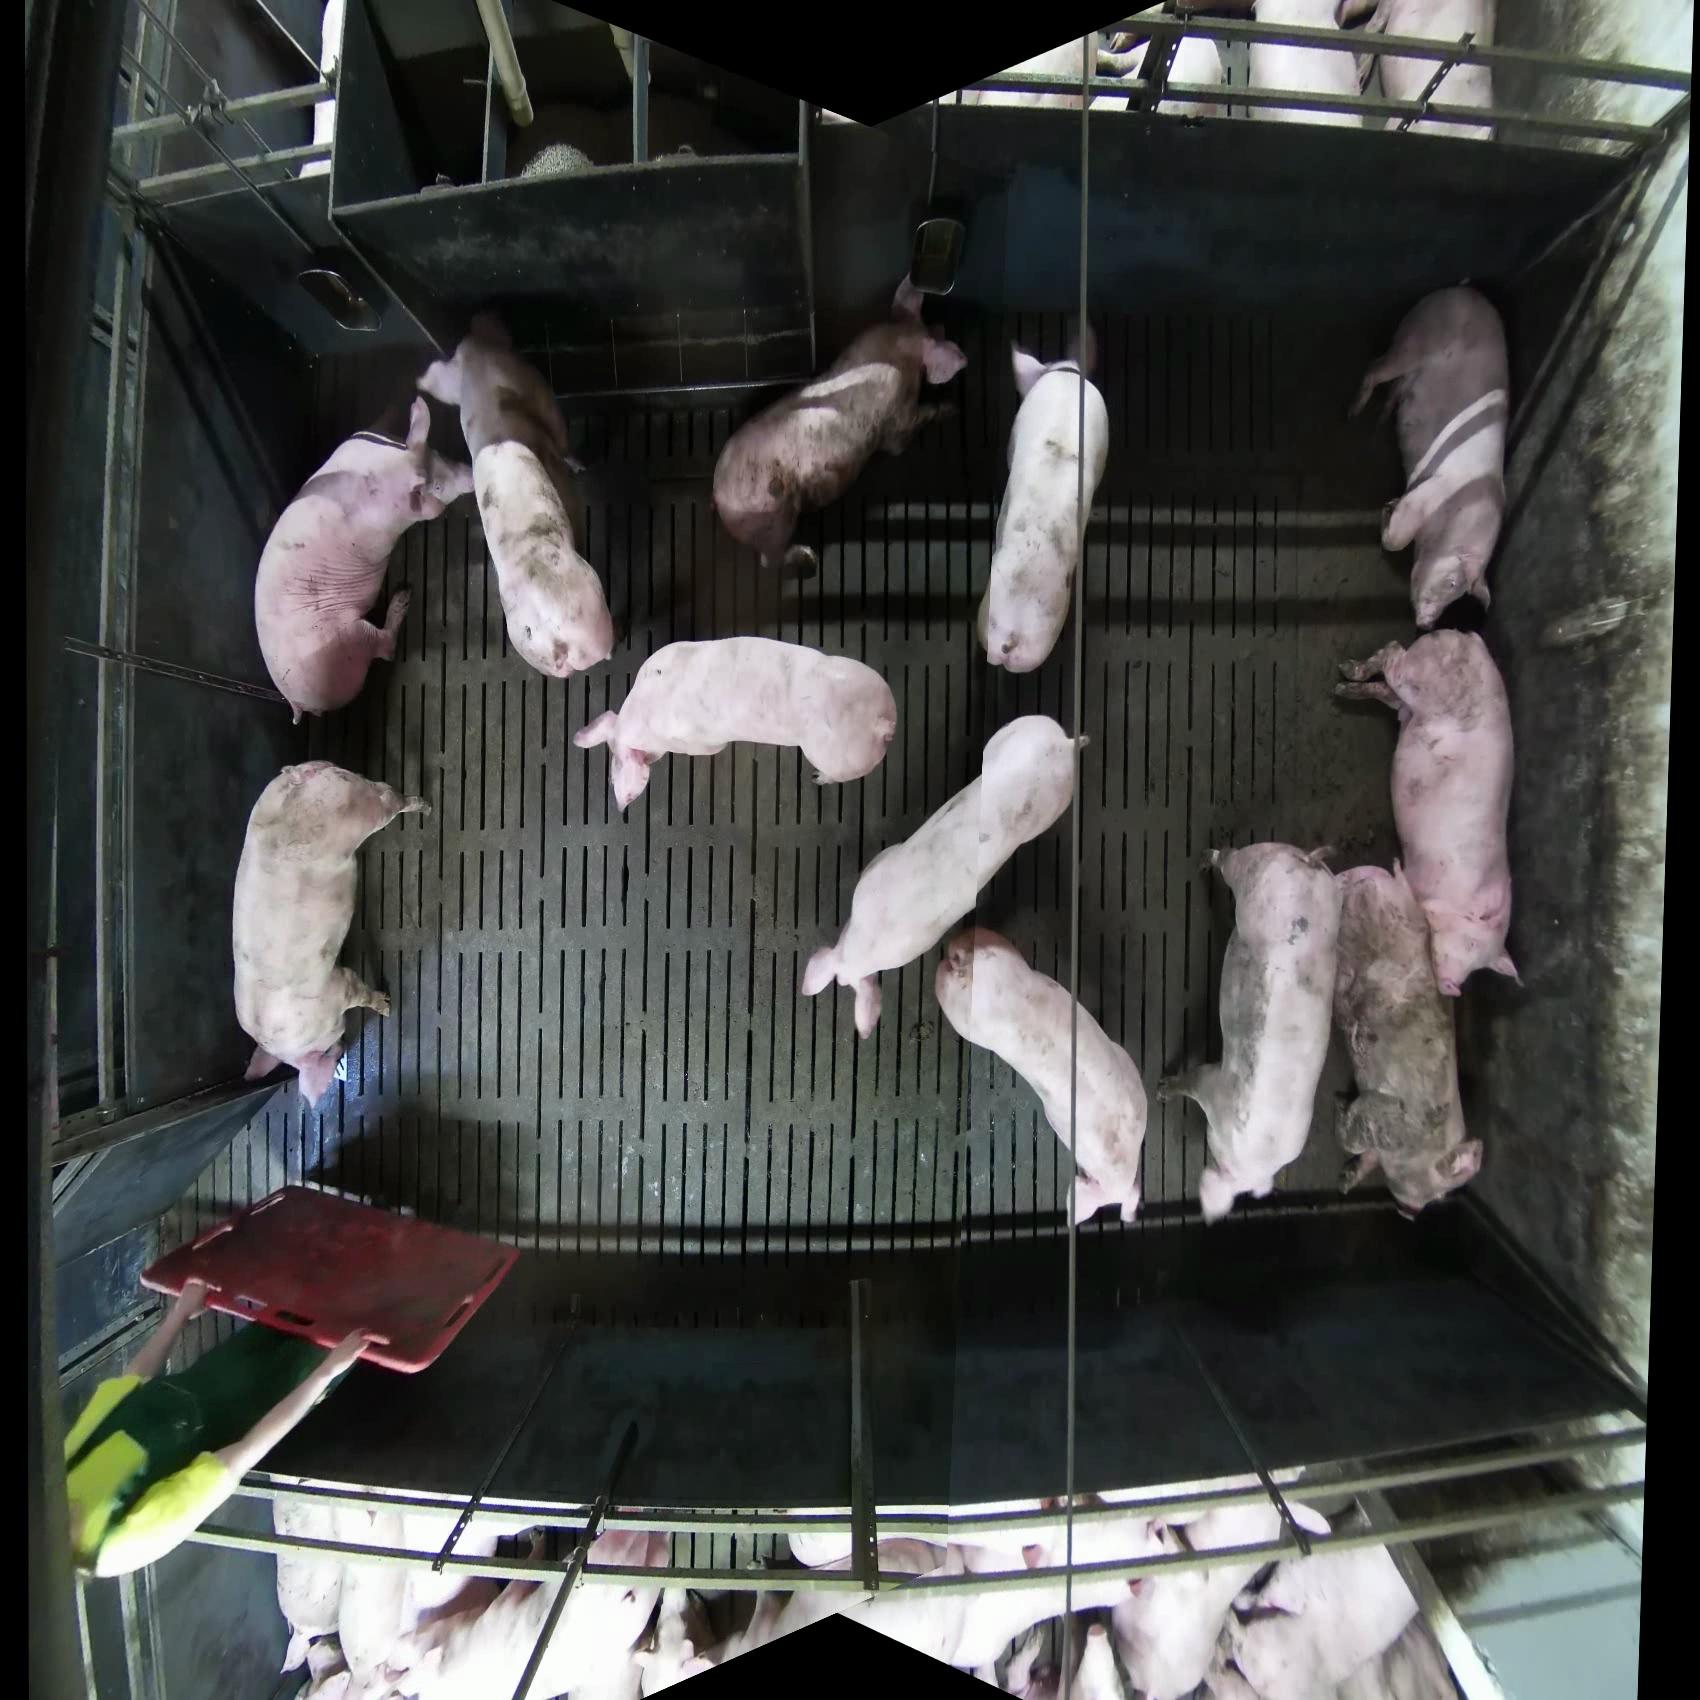pig: (271, 1485, 1466, 1700), (800, 713, 1090, 1040), (710, 271, 969, 575), (415, 307, 617, 681), (252, 393, 473, 726), (1156, 840, 1343, 1227), (1332, 627, 1524, 1000), (231, 759, 432, 1112), (932, 925, 1149, 1229), (573, 635, 899, 816), (1348, 279, 1513, 630), (1331, 861, 1486, 1220), (976, 325, 1111, 675), (1202, 1539, 1462, 1699), (783, 1529, 1050, 1673), (468, 436, 617, 680), (1110, 1518, 1274, 1699), (271, 1492, 409, 1693), (1370, 1, 1498, 141), (1251, 1, 1380, 127), (991, 1606, 1135, 1700), (783, 1530, 1048, 1580)
worker: (34, 1143, 499, 1618)
